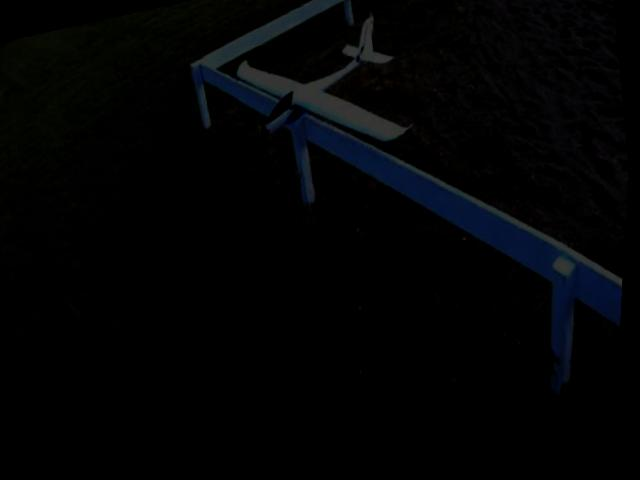iha: (226, 11, 424, 183)
